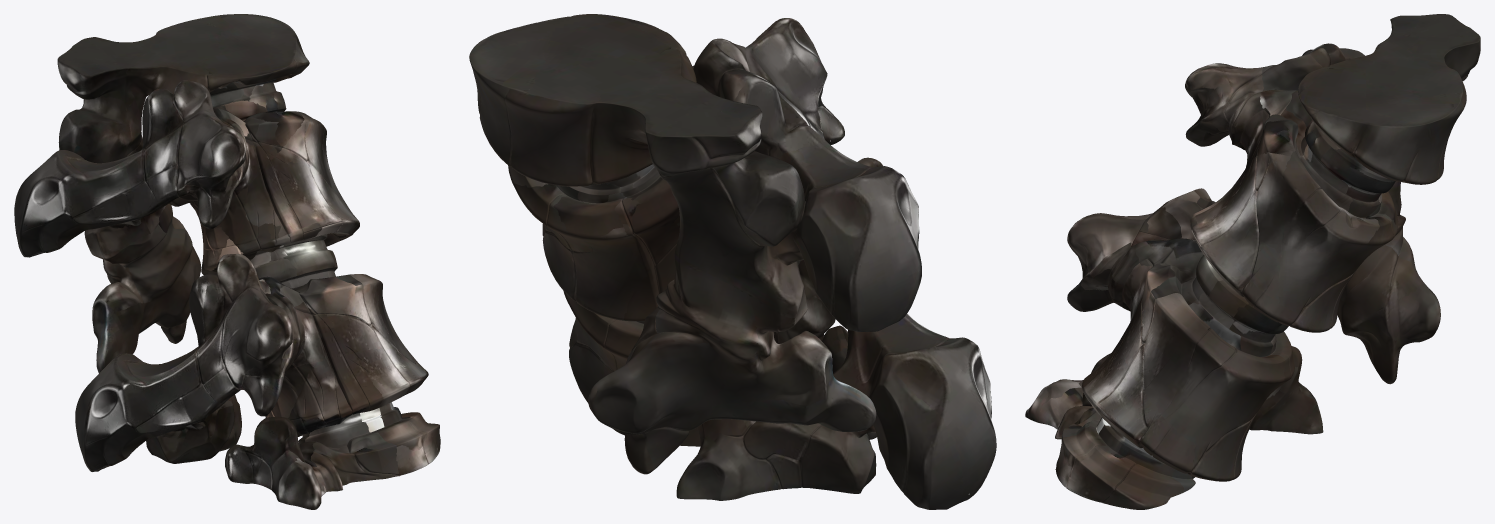
The model's file is phone.glb.
The picture shows the model from 3 angles, left to right: view 1: azimuth 30°, elevation 25°; view 2: azimuth 150°, elevation 25°; view 3: azimuth 270°, elevation 25°; orthographic projection. The views are drawn at different scales.
Visible parts, largest first — view 1: tripo_node_14edf788-3b34-4d63-ac44-ec0509f64d49; view 2: tripo_node_14edf788-3b34-4d63-ac44-ec0509f64d49; view 3: tripo_node_14edf788-3b34-4d63-ac44-ec0509f64d49.
Boxes of the visible parts, left/top/right/bottom form: tripo_node_14edf788-3b34-4d63-ac44-ec0509f64d49: left=14, top=14, right=440, bottom=509; tripo_node_14edf788-3b34-4d63-ac44-ec0509f64d49: left=469, top=14, right=996, bottom=509; tripo_node_14edf788-3b34-4d63-ac44-ec0509f64d49: left=1025, top=14, right=1480, bottom=509.
Bounding box in the file's own units: 0.9064 × 0.8822 × 0.9825.
1 material, 1 textured.
